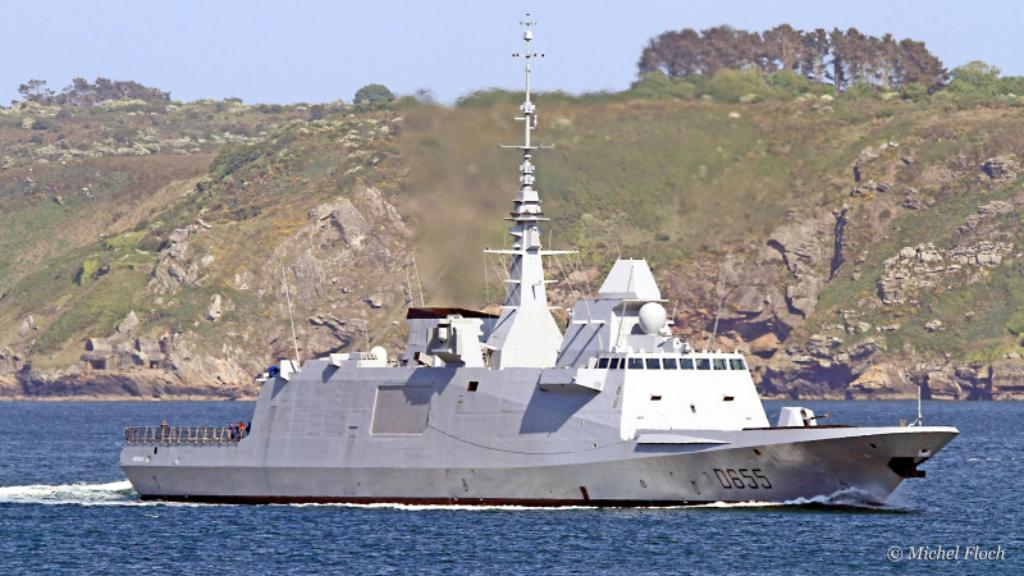Warship: (115, 10, 961, 510)
